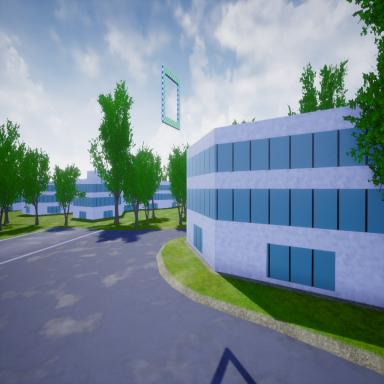gate: (161, 63, 181, 132)
